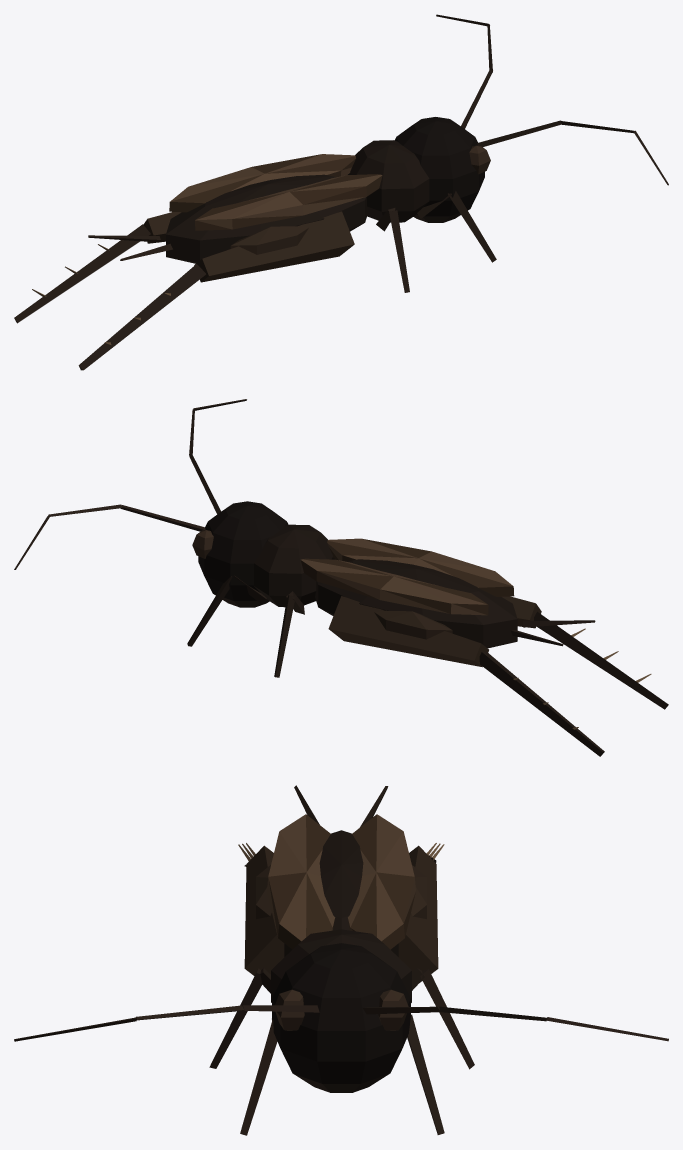
Rendered from creatures-cricket-leaping.glb.
3 views of the same model, one above another, from view 1: azimuth 30°, elevation 25°; view 2: azimuth 150°, elevation 25°; view 3: azimuth 270°, elevation 25° (orthographic). The views are drawn at different scales.
Size of the model in its own units: 22.12 by 5.99 by 17.22.
